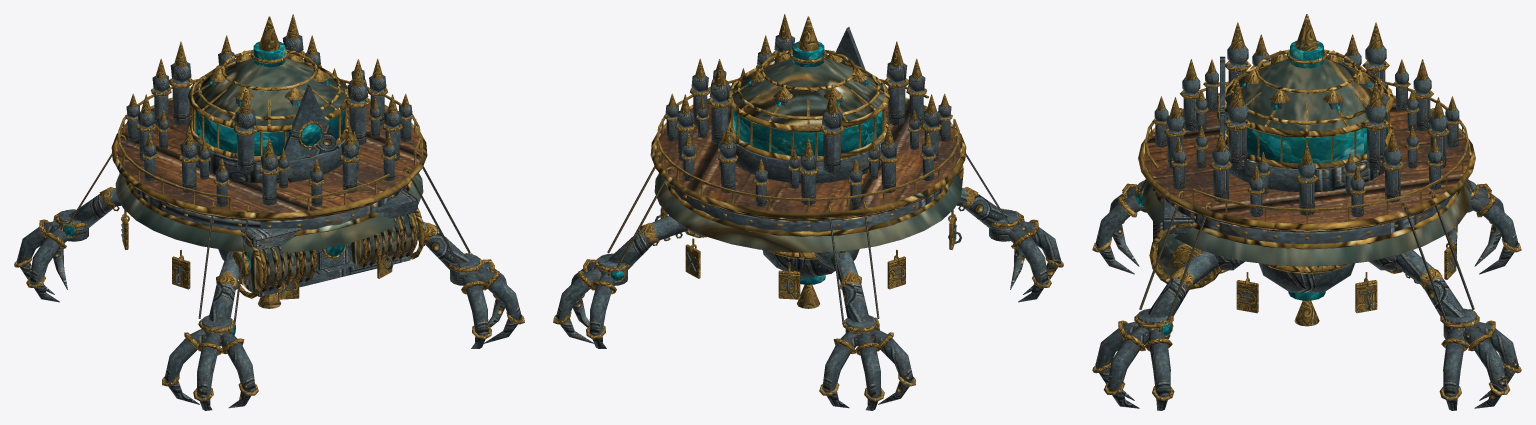
Rendered from salvage-claw-detail-opus5.glb.
3 views of the same model, side by side, from view 1: azimuth 30°, elevation 25°; view 2: azimuth 150°, elevation 25°; view 3: azimuth 270°, elevation 25° (orthographic). The views are drawn at different scales.
Parts seen in each view (by area): view 1: crown, anchor_feet, winch; view 2: crown, anchor_feet; view 3: crown, anchor_feet, winch.
Part boxes in pixels (box(x1,y1,x2,y2)): crown: box(111, 14, 427, 308); anchor_feet: box(14, 121, 524, 410); winch: box(232, 189, 424, 298); crown: box(650, 14, 966, 308); anchor_feet: box(553, 121, 1063, 410); crown: box(1138, 14, 1475, 326); anchor_feet: box(1092, 98, 1521, 410); winch: box(1149, 197, 1222, 289).
Size of the model in its own units: 14.49 by 12.04 by 14.49.
1 material, 1 textured.
